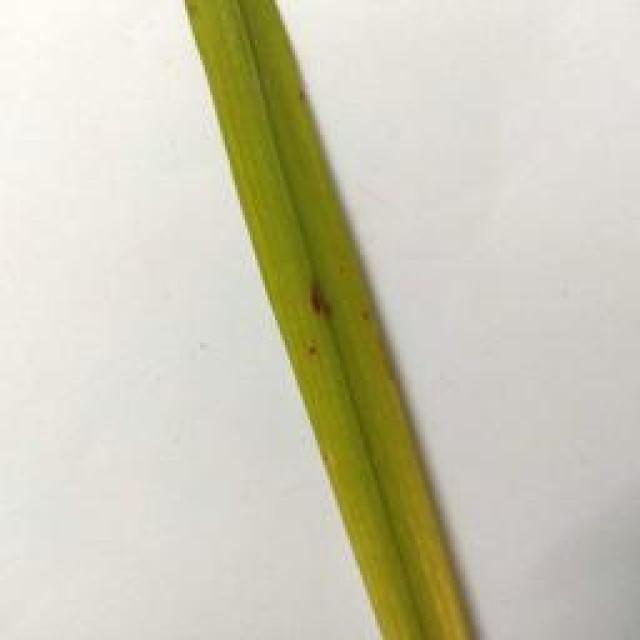Brown_Spot: (296, 276, 343, 327), (346, 299, 384, 338), (292, 87, 329, 121), (298, 337, 324, 365)
